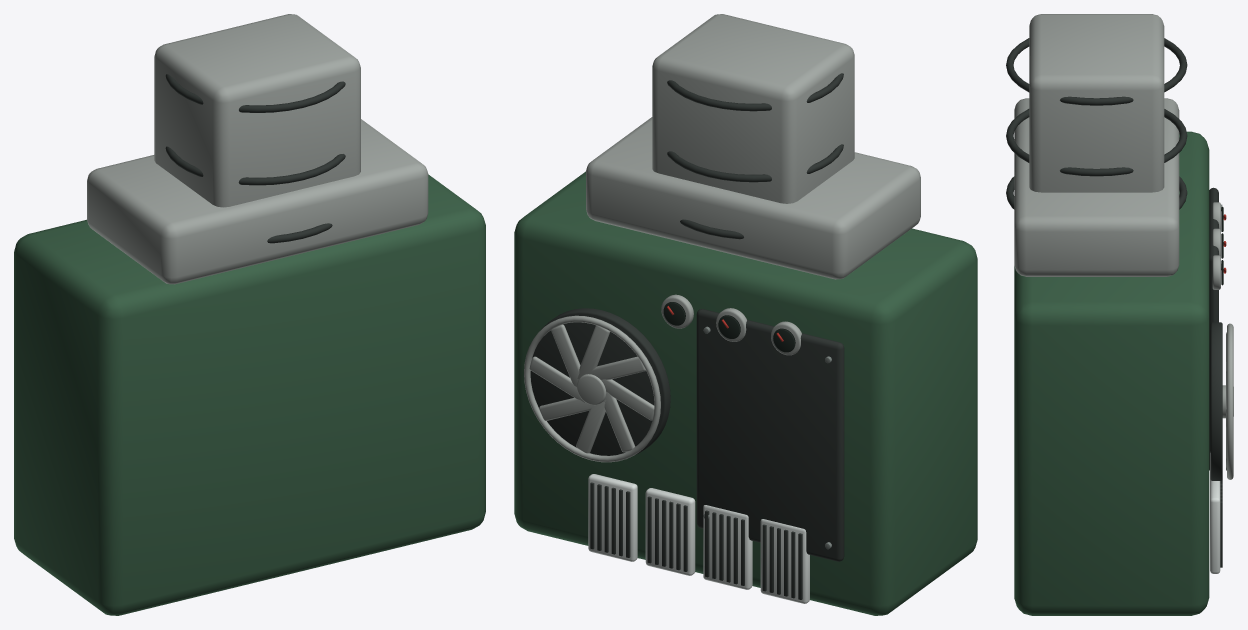
Rendered from ventilation_unit_v3.glb.
3 renders of one model, left to right at view 1: azimuth 30°, elevation 25°; view 2: azimuth 150°, elevation 25°; view 3: azimuth 270°, elevation 25°, orthographic. The views are drawn at different scales.
Parts seen in each view (by area): view 1: AHU_Body, DuctRise, DuctTop, DuctBand_3.0, DuctBand_3.52; view 2: AHU_Body, DuctRise, AHU_ServiceDoor, DuctTop, FanHousing, FanGuard, Filter_2, Filter_3, Filter_0, Filter_1, DuctBand_3.0, DuctBand_3.52 (+9 smaller); view 3: AHU_Body, DuctRise, DuctTop, FanHousing, DuctBand_3.0, DuctBand_3.52, AHU_ServiceDoor, FanGuard, Filter_3, DuctBand_2.58.
Part boxes in pixels (x1,y1,x2,y2): AHU_Body: (14, 174, 485, 615); DuctRise: (154, 14, 360, 207); DuctTop: (87, 119, 428, 284); DuctBand_3.0: (165, 146, 345, 185); DuctBand_3.52: (165, 74, 345, 112); AHU_Body: (514, 171, 977, 615); DuctRise: (652, 14, 854, 203); AHU_ServiceDoor: (696, 309, 844, 561); DuctTop: (586, 117, 920, 279); FanHousing: (530, 308, 670, 455); FanGuard: (524, 315, 660, 462); Filter_2: (645, 488, 695, 575); Filter_3: (588, 474, 637, 561); Filter_0: (760, 519, 809, 603); Filter_1: (703, 505, 752, 589); DuctBand_3.0: (667, 144, 843, 182); DuctBand_3.52: (667, 73, 843, 111); AHU_Body: (1014, 131, 1209, 615); DuctRise: (1029, 14, 1164, 192); DuctTop: (1014, 98, 1179, 276); FanHousing: (1210, 322, 1222, 480); DuctBand_3.0: (1006, 109, 1187, 176); DuctBand_3.52: (1006, 38, 1187, 105); AHU_ServiceDoor: (1209, 187, 1218, 470); FanGuard: (1227, 323, 1233, 479); Filter_3: (1210, 479, 1220, 573); DuctBand_2.58: (1006, 176, 1187, 209).
Bounding box in the file's own units: 2.9 × 3.57 × 1.52.
